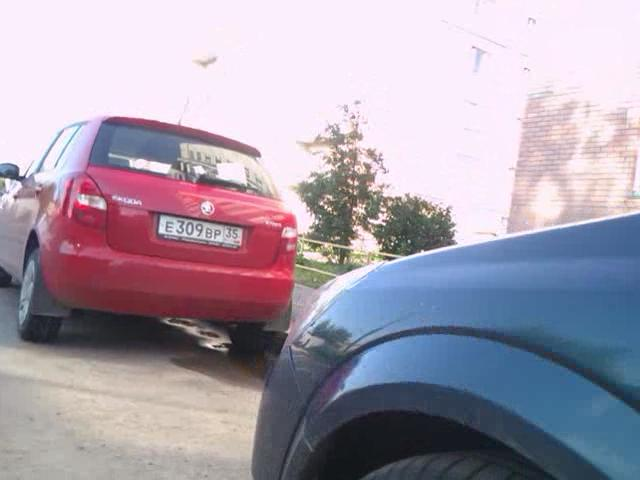car license plate: (157, 210, 243, 252)
